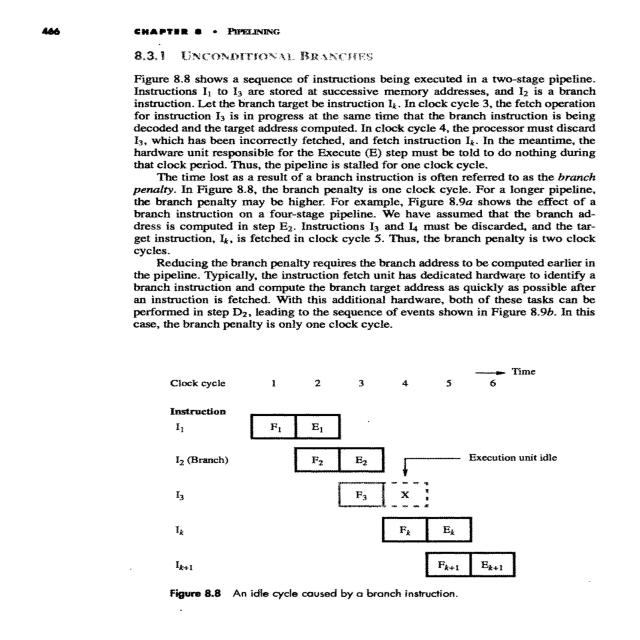diagram: (94, 355, 626, 611)
